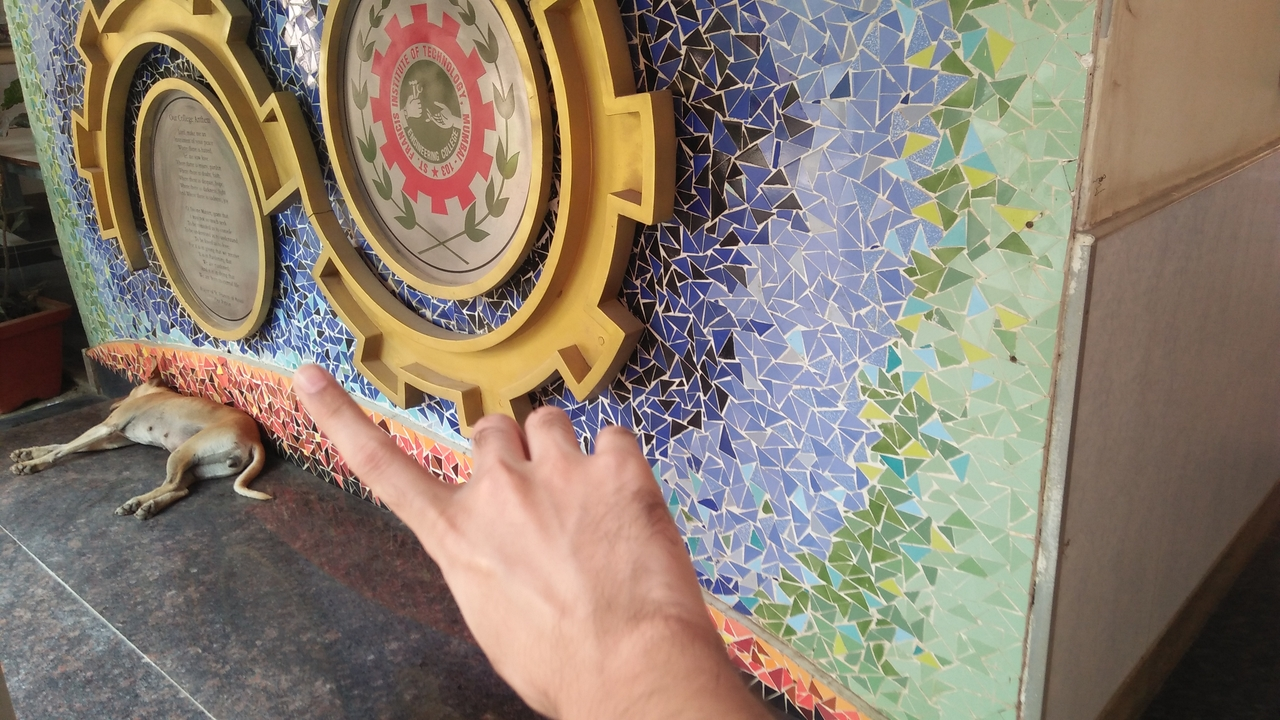fingertip: (276, 356, 346, 412)
